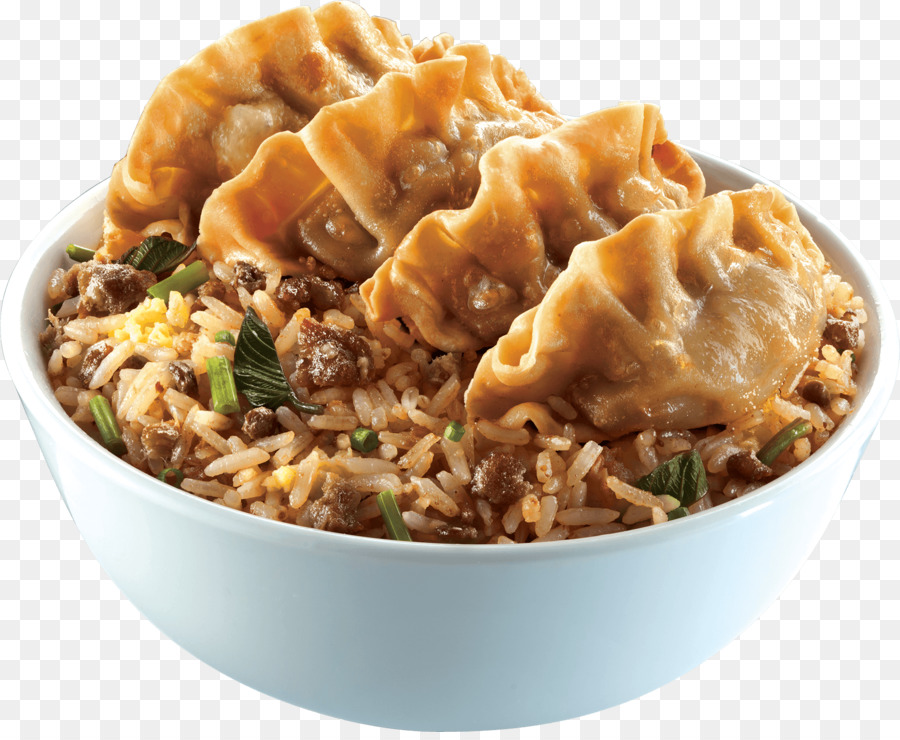fried_dumplings: (491, 181, 819, 407), (395, 110, 682, 320), (284, 64, 524, 251), (138, 22, 398, 194)
